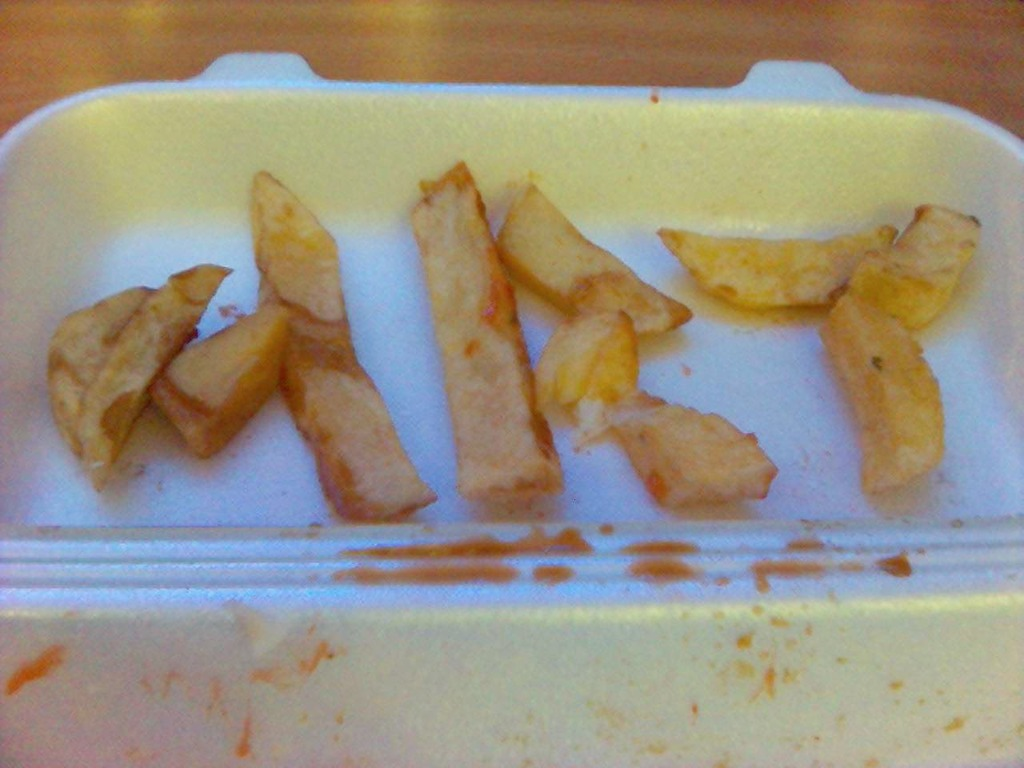French fries: (241, 144, 429, 529), (387, 157, 563, 543), (59, 252, 231, 505), (511, 171, 699, 337), (141, 291, 301, 464), (819, 285, 945, 503), (597, 399, 784, 517), (645, 224, 901, 301), (45, 279, 152, 449), (843, 203, 987, 321), (535, 303, 643, 433)
